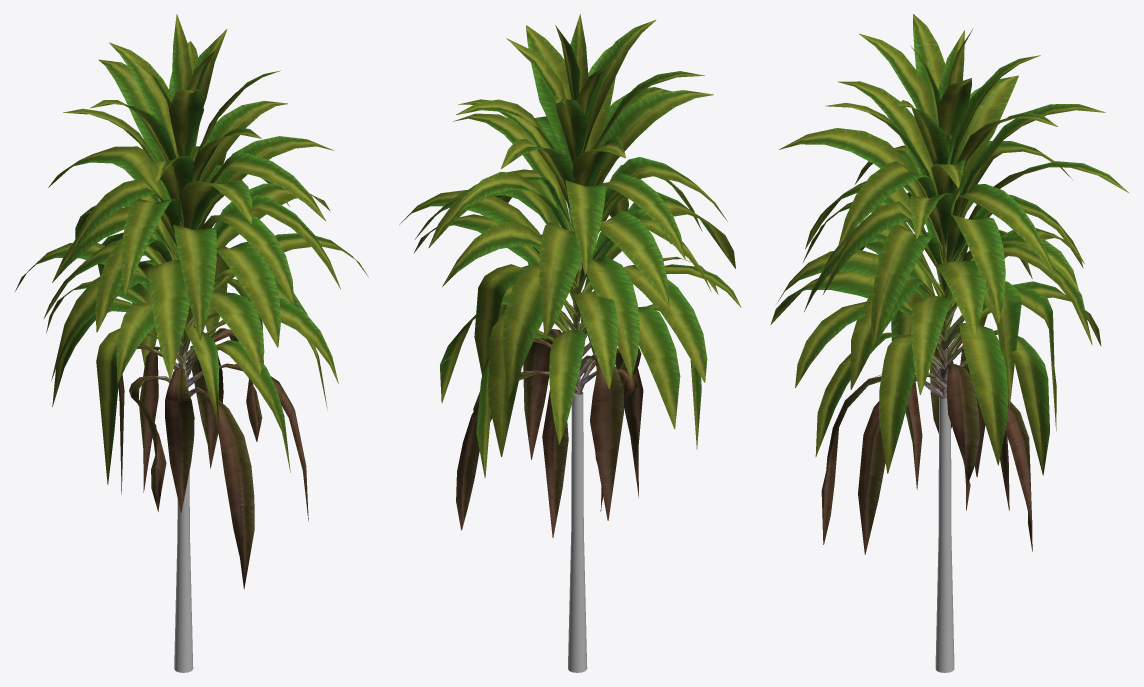
The model's file is Palm_Lily_Model_0.obj.
3 views of the same model, side by side, from view 1: azimuth 30°, elevation 25°; view 2: azimuth 150°, elevation 25°; view 3: azimuth 270°, elevation 25° (orthographic).
Visible parts, largest first — view 1: Foliage, Bark; view 2: Foliage, Bark; view 3: Foliage, Bark.
Boxes of the visible parts, x1=… form: Foliage: x1=14, y1=14, x2=368, y2=589; Bark: x1=174, y1=471, x2=193, y2=672; Foliage: x1=399, y1=14, x2=741, y2=537; Bark: x1=568, y1=391, x2=587, y2=672; Foliage: x1=770, y1=14, x2=1128, y2=554; Bark: x1=935, y1=397, x2=954, y2=672.
Bounding box in the file's own units: 1.48 × 3 × 1.51.
